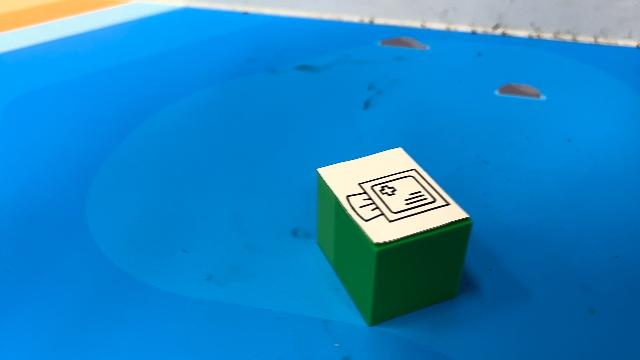napkin: (314, 145, 474, 327)
